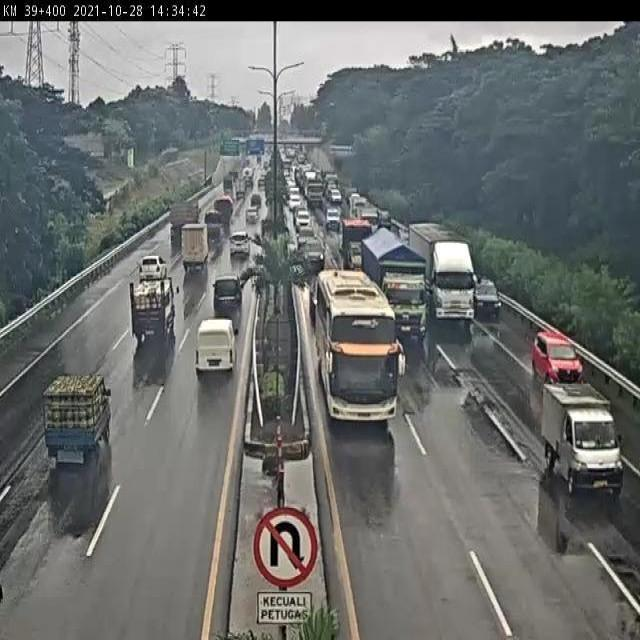big bus: (313, 260, 403, 424)
big truck: (366, 233, 432, 343), (416, 235, 470, 333), (310, 177, 323, 207)
car: (12, 376, 101, 511), (532, 372, 613, 496), (181, 329, 241, 415), (513, 306, 573, 374), (202, 280, 249, 333), (125, 250, 168, 290), (473, 267, 501, 321), (219, 230, 250, 274), (172, 200, 199, 232), (301, 231, 322, 268), (205, 210, 219, 238), (327, 209, 340, 236), (294, 208, 314, 225), (244, 207, 259, 228), (252, 191, 260, 209), (330, 191, 341, 204), (292, 192, 298, 209)
small truck: (116, 279, 178, 364), (170, 227, 213, 296), (173, 222, 216, 286), (343, 220, 367, 265)
